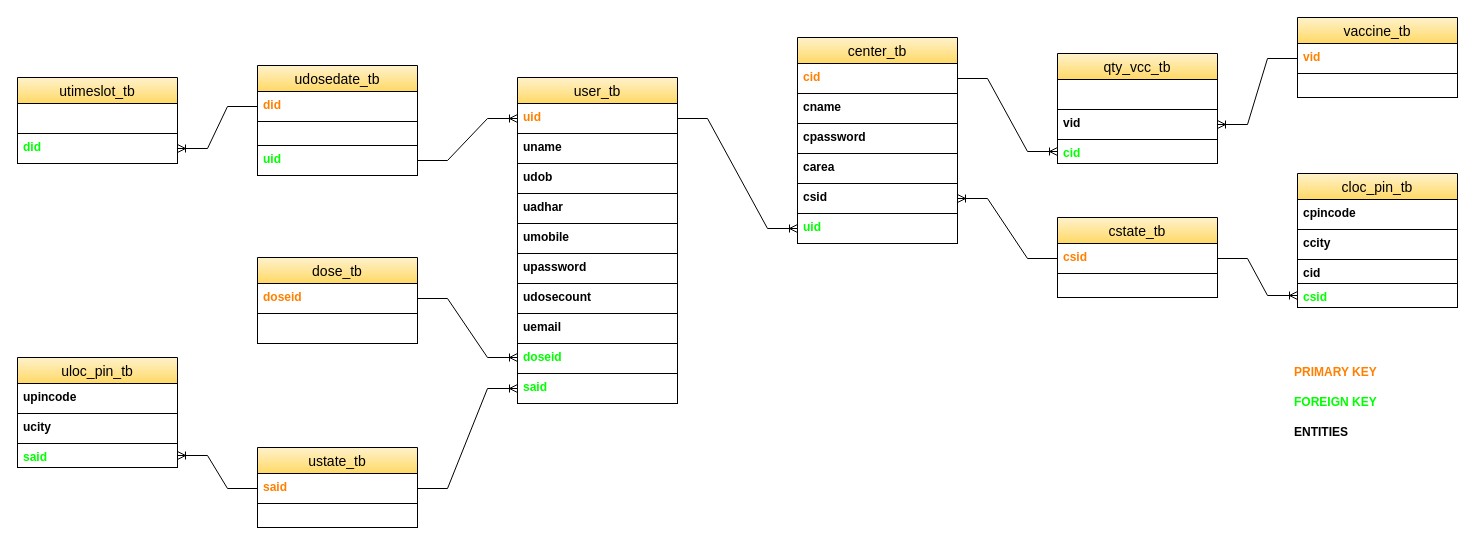
Some shapes in this 1475 by 548 pixel diagram are drawn without their labels. Each missing label, with the centre of its shape:
cstate: point (1137, 285)
dosetype: point (337, 328)
qty: point (1137, 94)
udosedate: point (337, 133)
ustate: point (337, 515)
utimeslot: point (97, 118)
vacc_name: point (1377, 85)
